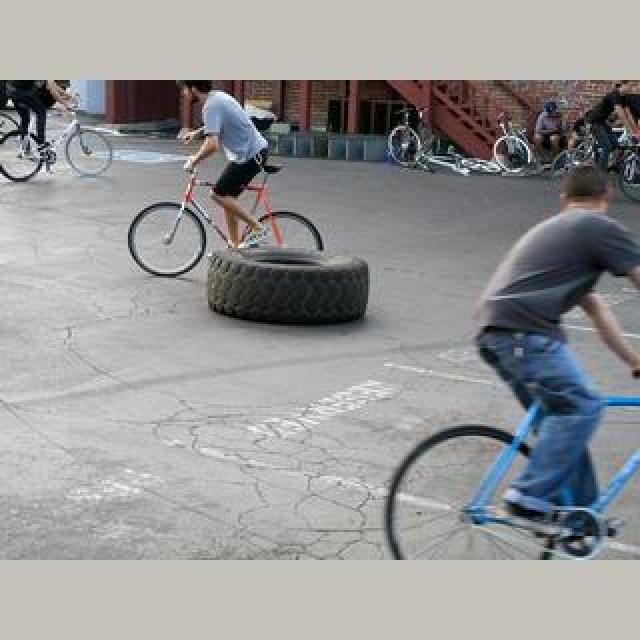MC-Bike: (472, 156, 640, 540), (176, 82, 274, 260), (4, 80, 66, 162)
Person: (386, 396, 638, 560), (128, 158, 324, 280), (0, 100, 112, 182)
